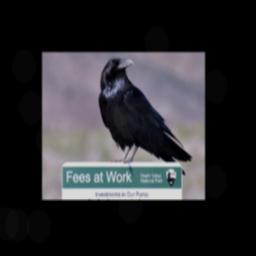Crow: (98, 56, 193, 177)
